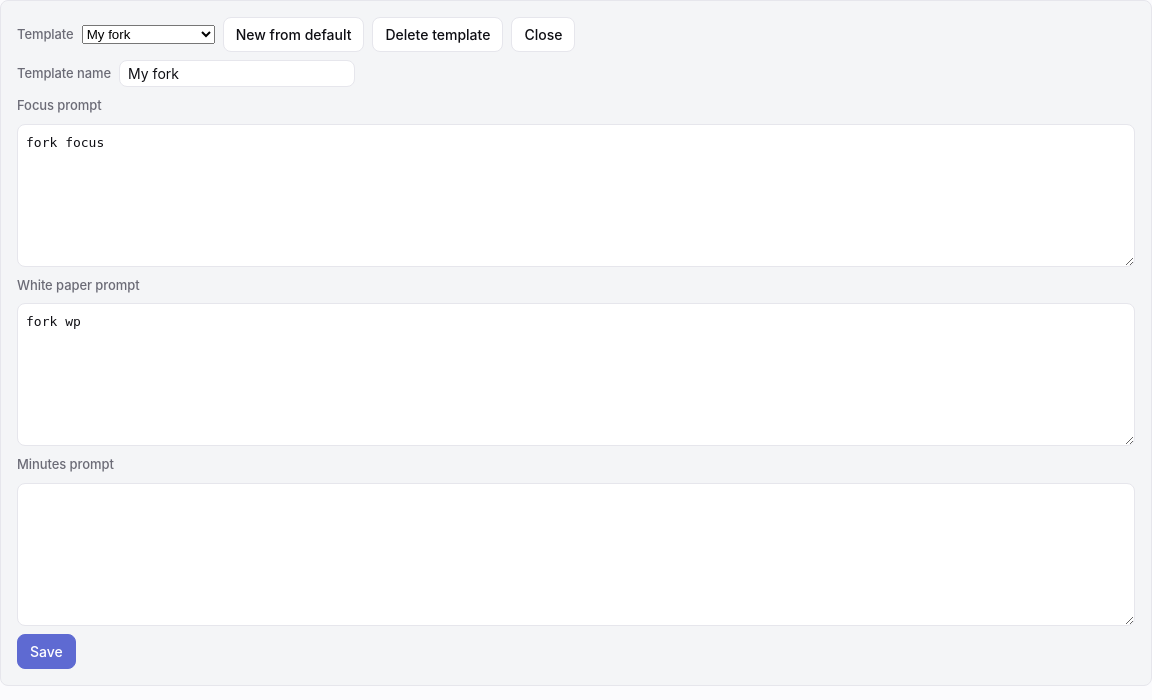
Test: PromptTemplateEditor unsaved-draft nudge (F18) › marks the editor dirty after a draft edit
Type " extra" into the text box labelled "Focus prompt".
click(576, 195); type(" extra")  # box [17,124,1135,267]
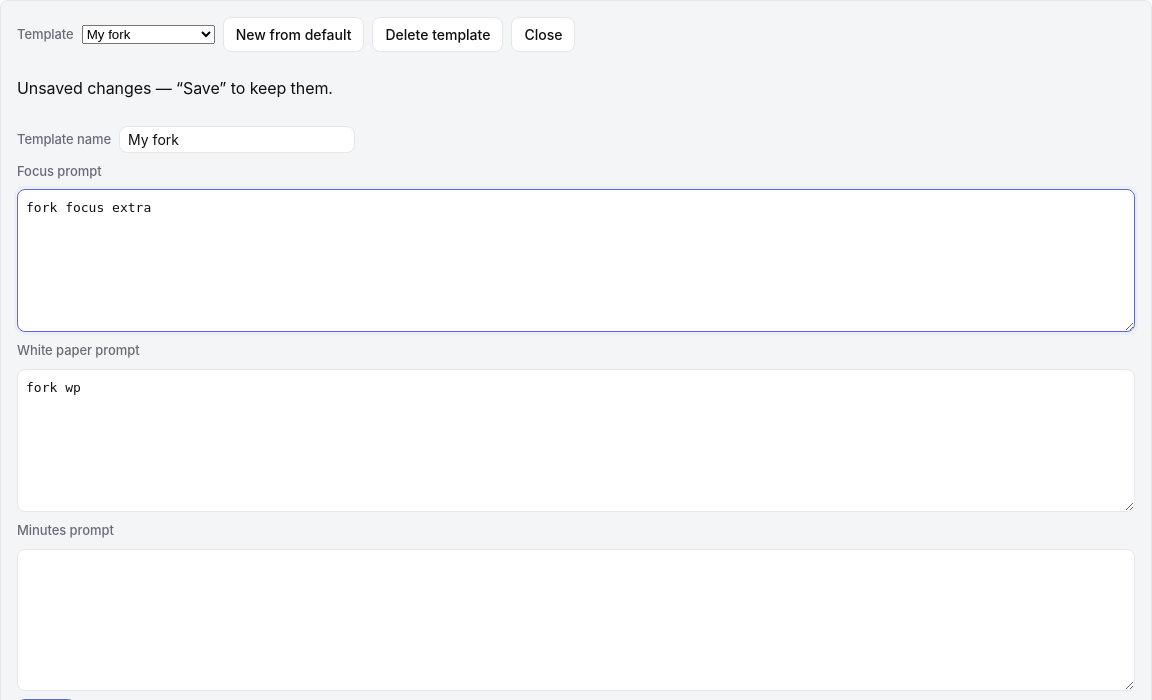
Expected: the text "Unsaved changes — “Save” to keep them." is shown, [17,78,333,98]
